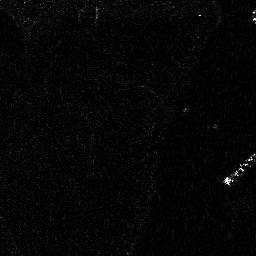ship: (221, 153, 256, 185)
